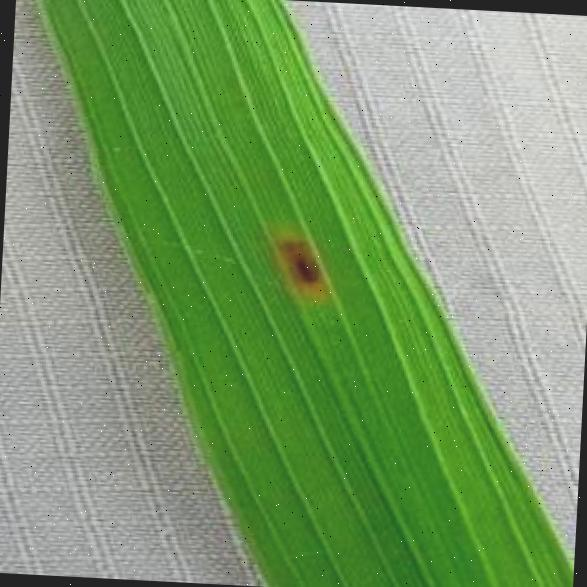Brown_Spot: (254, 210, 343, 308)
